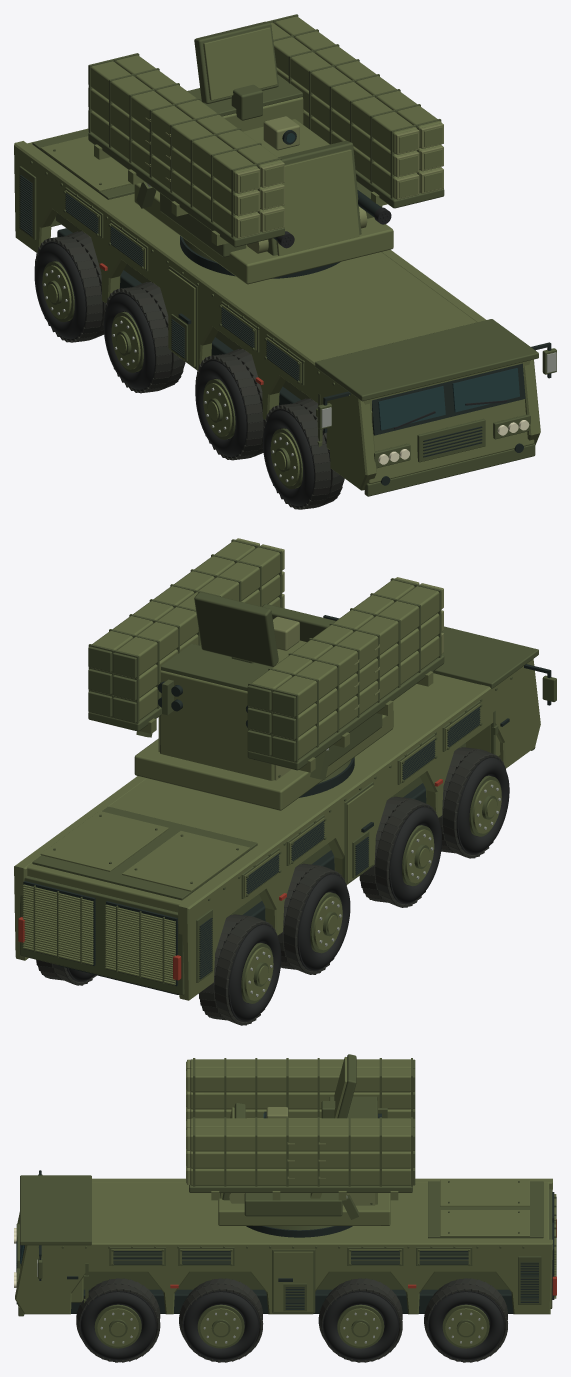
The model's file is ground-vehicle.glb.
The picture shows the model from 3 angles, top to bottom: view 1: azimuth 30°, elevation 25°; view 2: azimuth 150°, elevation 25°; view 3: azimuth 270°, elevation 25°; orthographic projection. The views are drawn at different scales.
Visible parts, largest first — view 1: part-0719, part-0001, part-1024, part-1148, part-1222, part-1115, part-1335, part-0988, part-1153, part-1351, part-1238, part-1190 (+34 smaller); view 2: part-0719, part-0001, part-1117, part-1115, part-1222, part-1335, part-1152, part-1108, part-1103, part-1024, part-1102, part-1033 (+24 smaller); view 3: part-0853, part-0001, part-1351, part-1024, part-1238, part-1319, part-1287, part-0002, part-1206, part-1115, part-0632, part-0274 (+36 smaller).
Part boxes in pixels (bbox=[...]): part-0719: bbox=[14, 141, 376, 490]; part-0001: bbox=[27, 128, 530, 410]; part-1024: bbox=[315, 319, 538, 401]; part-1148: bbox=[276, 149, 359, 255]; part-1222: bbox=[90, 61, 257, 192]; part-1115: bbox=[134, 183, 393, 284]; part-1335: bbox=[270, 22, 416, 153]; part-0988: bbox=[367, 399, 534, 483]; part-1153: bbox=[203, 27, 277, 100]; part-1351: bbox=[274, 16, 441, 147]; part-1238: bbox=[115, 55, 282, 186]; part-1190: bbox=[90, 88, 257, 214]; part-0719: bbox=[177, 659, 540, 1000]; part-0001: bbox=[27, 673, 479, 912]; part-1117: bbox=[160, 670, 274, 780]; part-1115: bbox=[134, 711, 393, 810]; part-1222: bbox=[276, 584, 441, 714]; part-1335: bbox=[117, 545, 282, 675]; part-1152: bbox=[194, 592, 278, 666]; part-1108: bbox=[40, 811, 168, 871]; part-1103: bbox=[122, 831, 250, 891]; part-1024: bbox=[433, 626, 538, 688]; part-1102: bbox=[32, 806, 257, 900]; part-1033: bbox=[20, 876, 184, 995]; part-0853: bbox=[15, 1239, 552, 1314]; part-0001: bbox=[25, 1182, 549, 1247]; part-1351: bbox=[190, 1127, 410, 1151]; part-1024: bbox=[20, 1175, 91, 1245]; part-1238: bbox=[190, 1068, 410, 1092]; part-1319: bbox=[190, 1151, 410, 1168]; part-1287: bbox=[190, 1168, 410, 1185]; part-0002: bbox=[83, 1272, 508, 1289]; part-1206: bbox=[190, 1092, 410, 1109]; part-1115: bbox=[218, 1193, 390, 1225]; part-0632: bbox=[428, 1292, 503, 1359]; part-0274: bbox=[183, 1292, 258, 1359].
Bounding box in the file's own units: 4.26 × 5.85 × 11.08.
